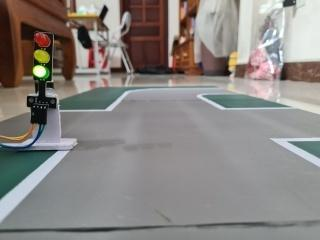green: (25, 26, 57, 88)
